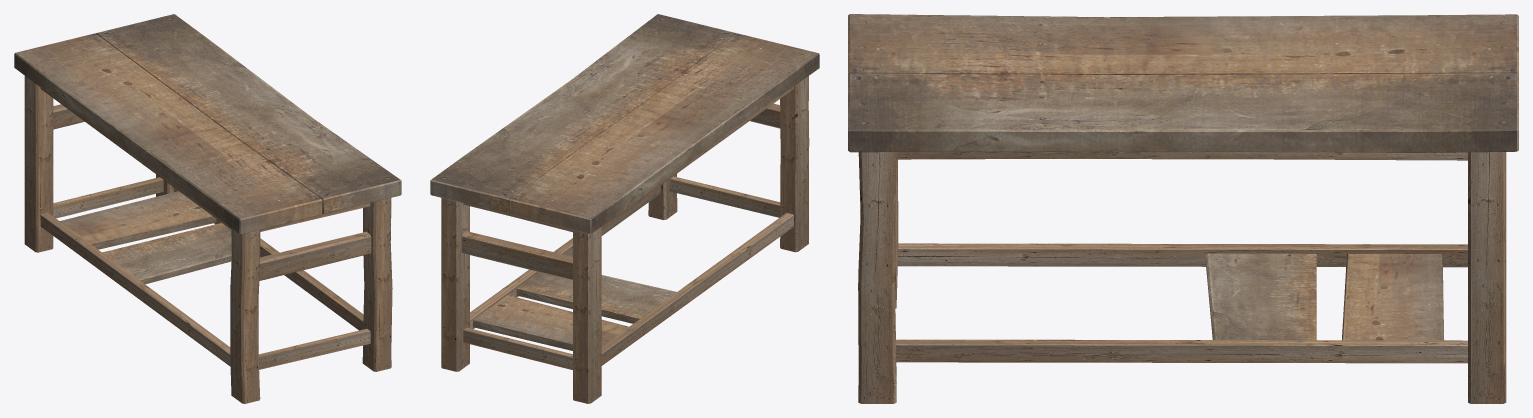
File: WoodenWorkbench.FBX
3 views of the same model, side by side, from view 1: azimuth 30°, elevation 25°; view 2: azimuth 150°, elevation 25°; view 3: azimuth 270°, elevation 25° (orthographic). The views are drawn at different scales.
Parts seen in each view (by area): view 1: WoodenWorkbench; view 2: WoodenWorkbench; view 3: WoodenWorkbench.
Part boxes in pixels (left/top/right/bottom): WoodenWorkbench: left=14, top=14, right=401, bottom=403; WoodenWorkbench: left=430, top=14, right=819, bottom=403; WoodenWorkbench: left=848, top=14, right=1518, bottom=403.
Bounding box in the file's own units: 0.9415 × 1.05 × 2.28.
